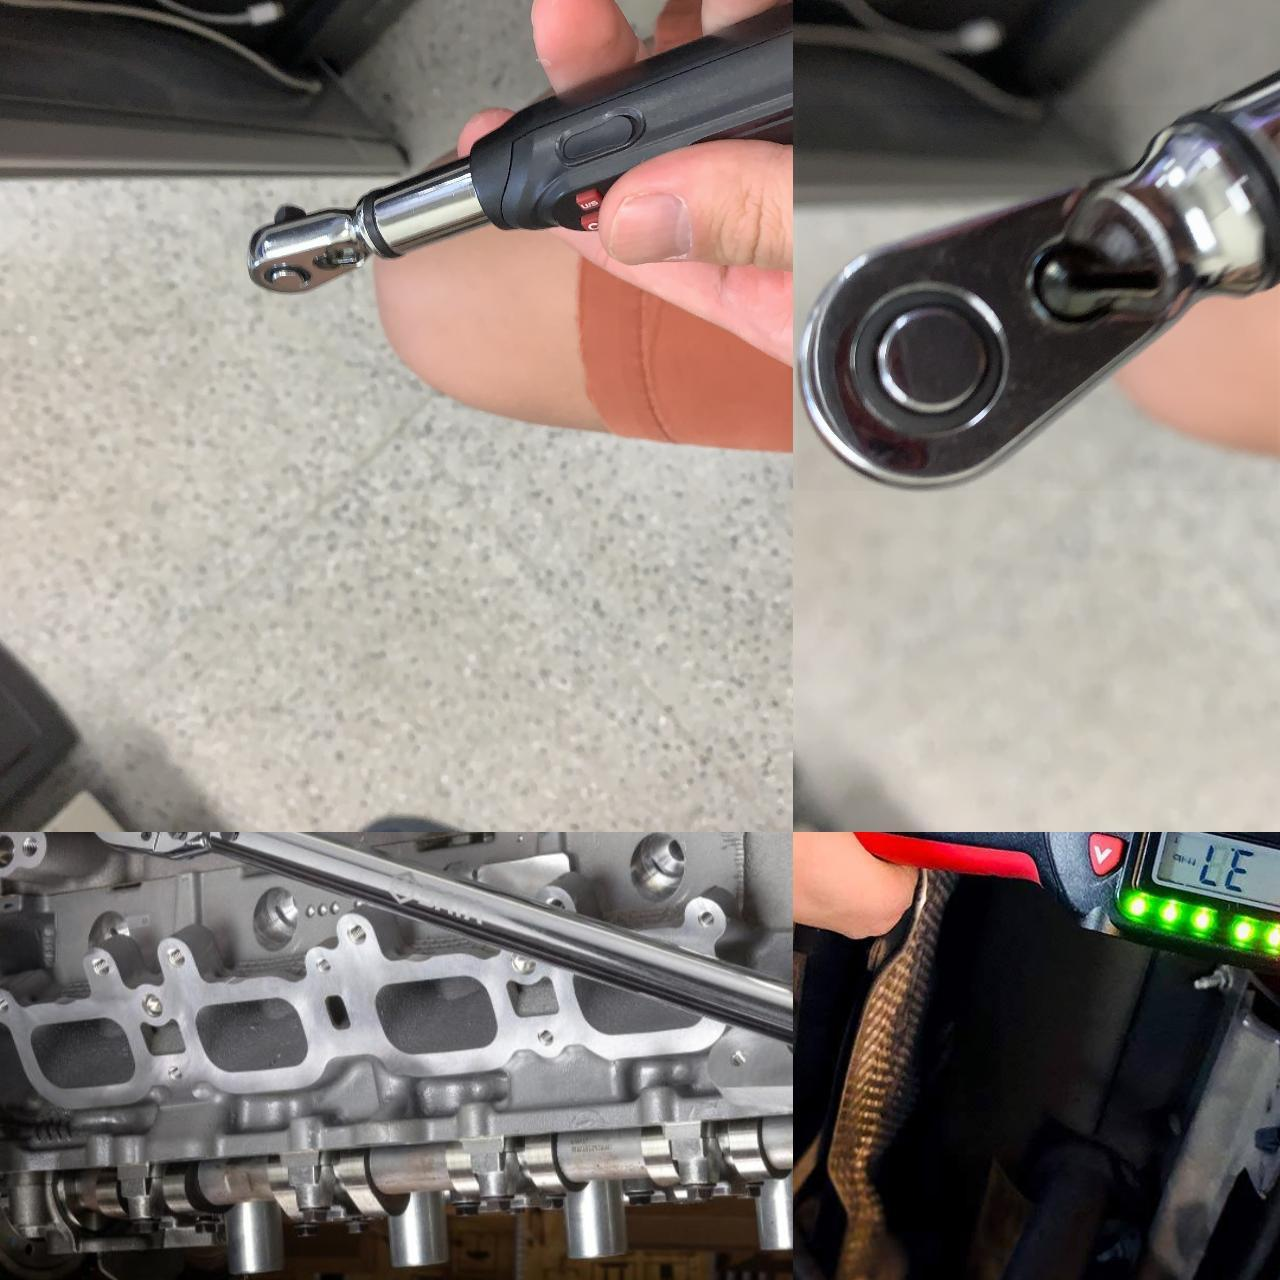Tool: (798, 105, 1278, 491), (244, 195, 374, 307), (84, 832, 210, 863)
